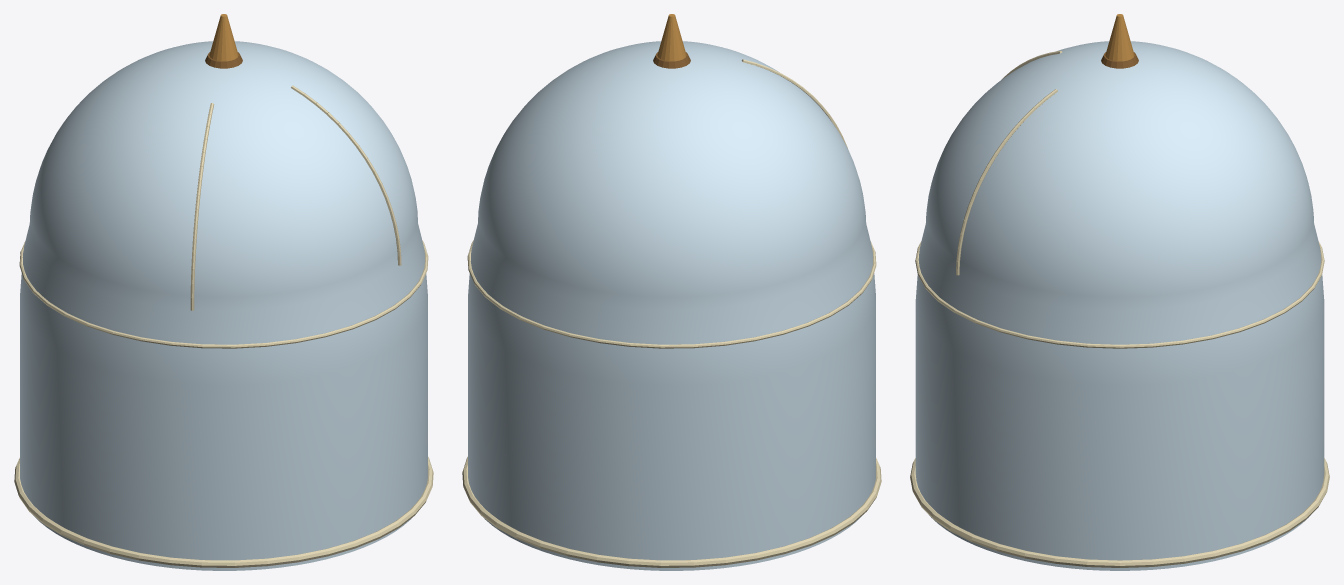
The model's file is SM_Vault_BellJar.fbx.
The picture shows the model from 3 angles, left to right: view 1: azimuth 30°, elevation 25°; view 2: azimuth 150°, elevation 25°; view 3: azimuth 270°, elevation 25°; orthographic projection.
Visible parts, largest first — view 1: SM_Vault_BellJar; view 2: SM_Vault_BellJar; view 3: SM_Vault_BellJar.
Part boxes in pixels (<box>): SM_Vault_BellJar: <box>14,14,433,570</box>; SM_Vault_BellJar: <box>462,14,881,570</box>; SM_Vault_BellJar: <box>910,14,1329,570</box>.
Bounding box in the file's own units: 257 × 257 × 317.
